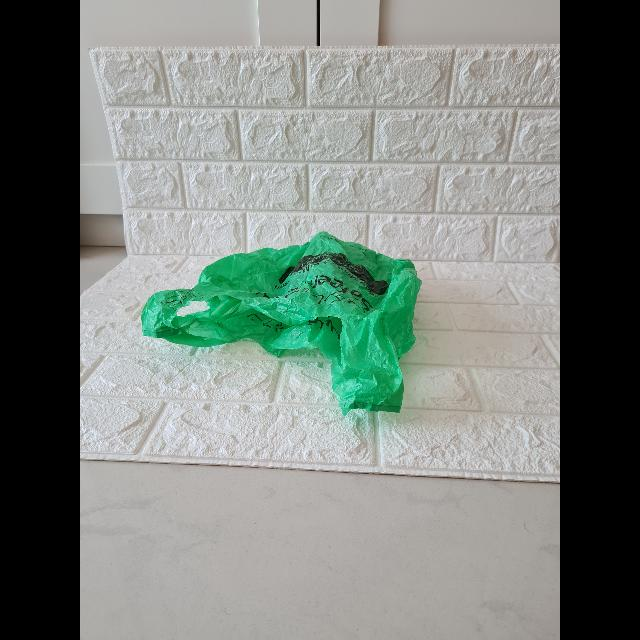plastic_bag: (143, 240, 430, 422)
